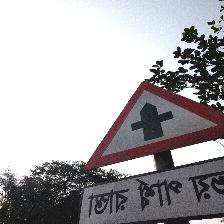Crossroad: (63, 67, 224, 224)
